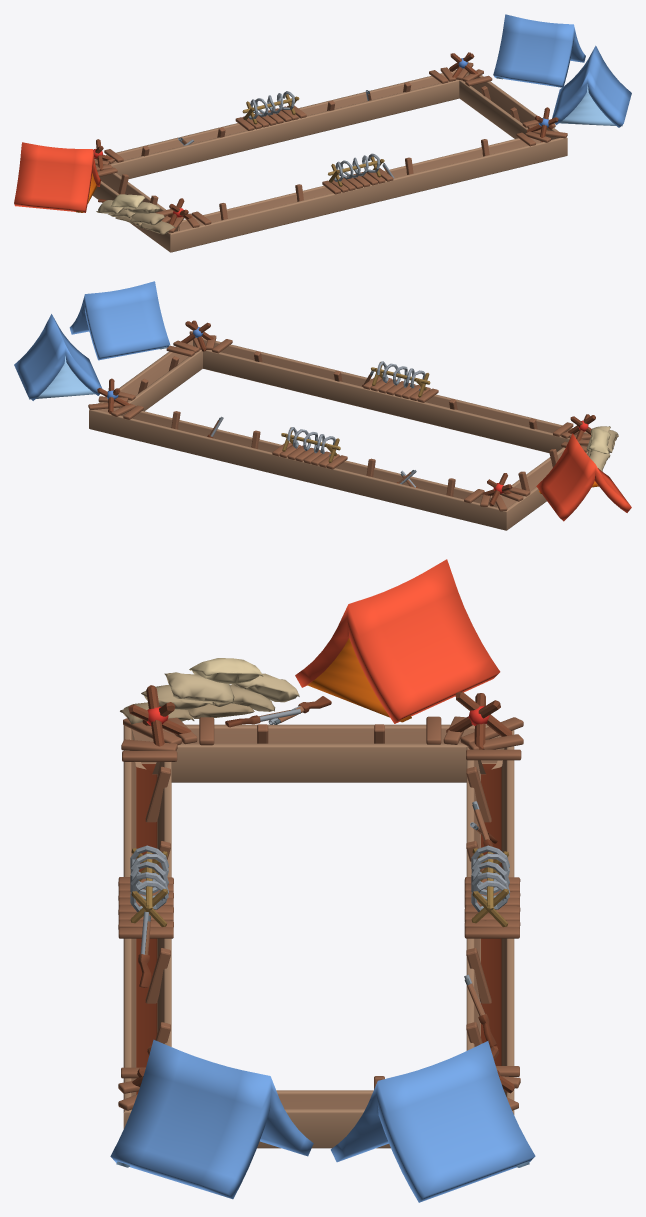
Rendered from Arena4.fbx.
3 renders of one model, top to bottom at view 1: azimuth 30°, elevation 25°; view 2: azimuth 150°, elevation 25°; view 3: azimuth 270°, elevation 25°, orthographic. The views are drawn at different scales.
Parts seen in each view (by area): view 1: Plane.076, Plane.058, Cube.158, Cube.160, Cube.159, Plane.057, s1-6k, Plane.056, Cylinder.053, Cylinder.052, Cube.154, Cube.163; view 2: Plane.058, Plane.076, Cube.159, Cube.160, Cube.158, Plane.057, Plane.056, s1-6k, Cylinder.052, Cylinder.053, Cube.163, Cube.162 (+2 smaller); view 3: Cube.158, Cube.159, Cube.160, Plane.056, Plane.076, Plane.058, s1-6k, Plane.057, Cylinder.053, Cylinder.052, Cube.162, Cube.161.
Boxes of the visible parts, bbox=[...] form: Plane.076: bbox=[170, 137, 567, 252]; Plane.058: bbox=[94, 69, 468, 178]; Cube.158: bbox=[14, 142, 100, 212]; Cube.160: bbox=[493, 14, 585, 87]; Cube.159: bbox=[552, 45, 631, 127]; Plane.057: bbox=[459, 69, 559, 142]; s1-6k: bbox=[96, 194, 175, 234]; Plane.056: bbox=[92, 173, 179, 252]; Cylinder.053: bbox=[333, 153, 380, 181]; Cylinder.052: bbox=[248, 91, 294, 119]; Cube.154: bbox=[449, 52, 479, 78]; Cube.163: bbox=[526, 107, 558, 137]; Plane.058: bbox=[89, 407, 506, 530]; Plane.076: bbox=[193, 338, 589, 452]; Cube.159: bbox=[69, 281, 170, 360]; Cube.160: bbox=[14, 314, 102, 400]; Cube.158: bbox=[536, 433, 631, 521]; Plane.057: bbox=[96, 340, 202, 412]; Plane.056: bbox=[497, 447, 588, 530]; s1-6k: bbox=[586, 426, 618, 471]; Cylinder.052: bbox=[287, 427, 335, 456]; Cylinder.053: bbox=[376, 361, 425, 390]; Cube.163: bbox=[181, 320, 213, 351]; Cube.162: bbox=[482, 473, 512, 506]; Cube.158: bbox=[295, 559, 500, 723]; Cube.159: bbox=[110, 1039, 313, 1199]; Cube.160: bbox=[330, 1041, 535, 1202]; Plane.056: bbox=[131, 724, 504, 782]; Plane.076: bbox=[123, 725, 171, 1112]; Plane.058: bbox=[466, 730, 514, 1112]; s1-6k: bbox=[120, 658, 299, 724]; Plane.057: bbox=[123, 1090, 514, 1148]; Cylinder.053: bbox=[130, 845, 169, 912]; Cylinder.052: bbox=[471, 845, 510, 912]; Cube.162: bbox=[446, 691, 512, 749]; Cube.161: bbox=[128, 685, 191, 746].
Bounding box in the file's own units: 54.52 × 6.27 × 17.31.
